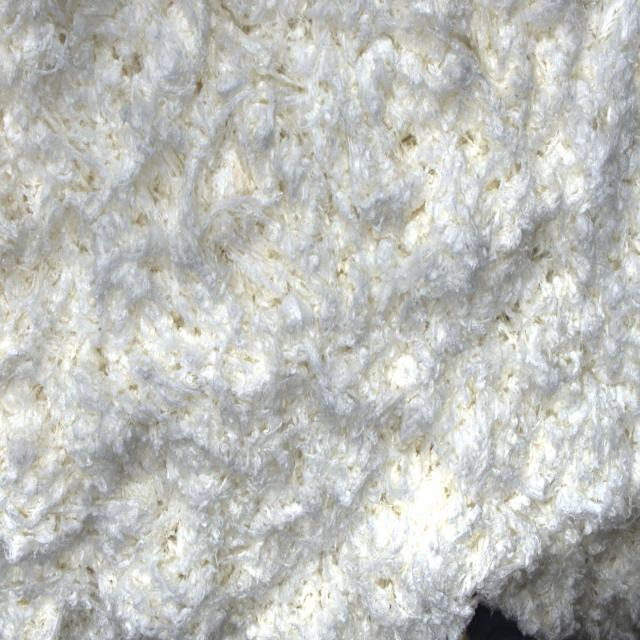dust: (453, 593, 535, 640)
